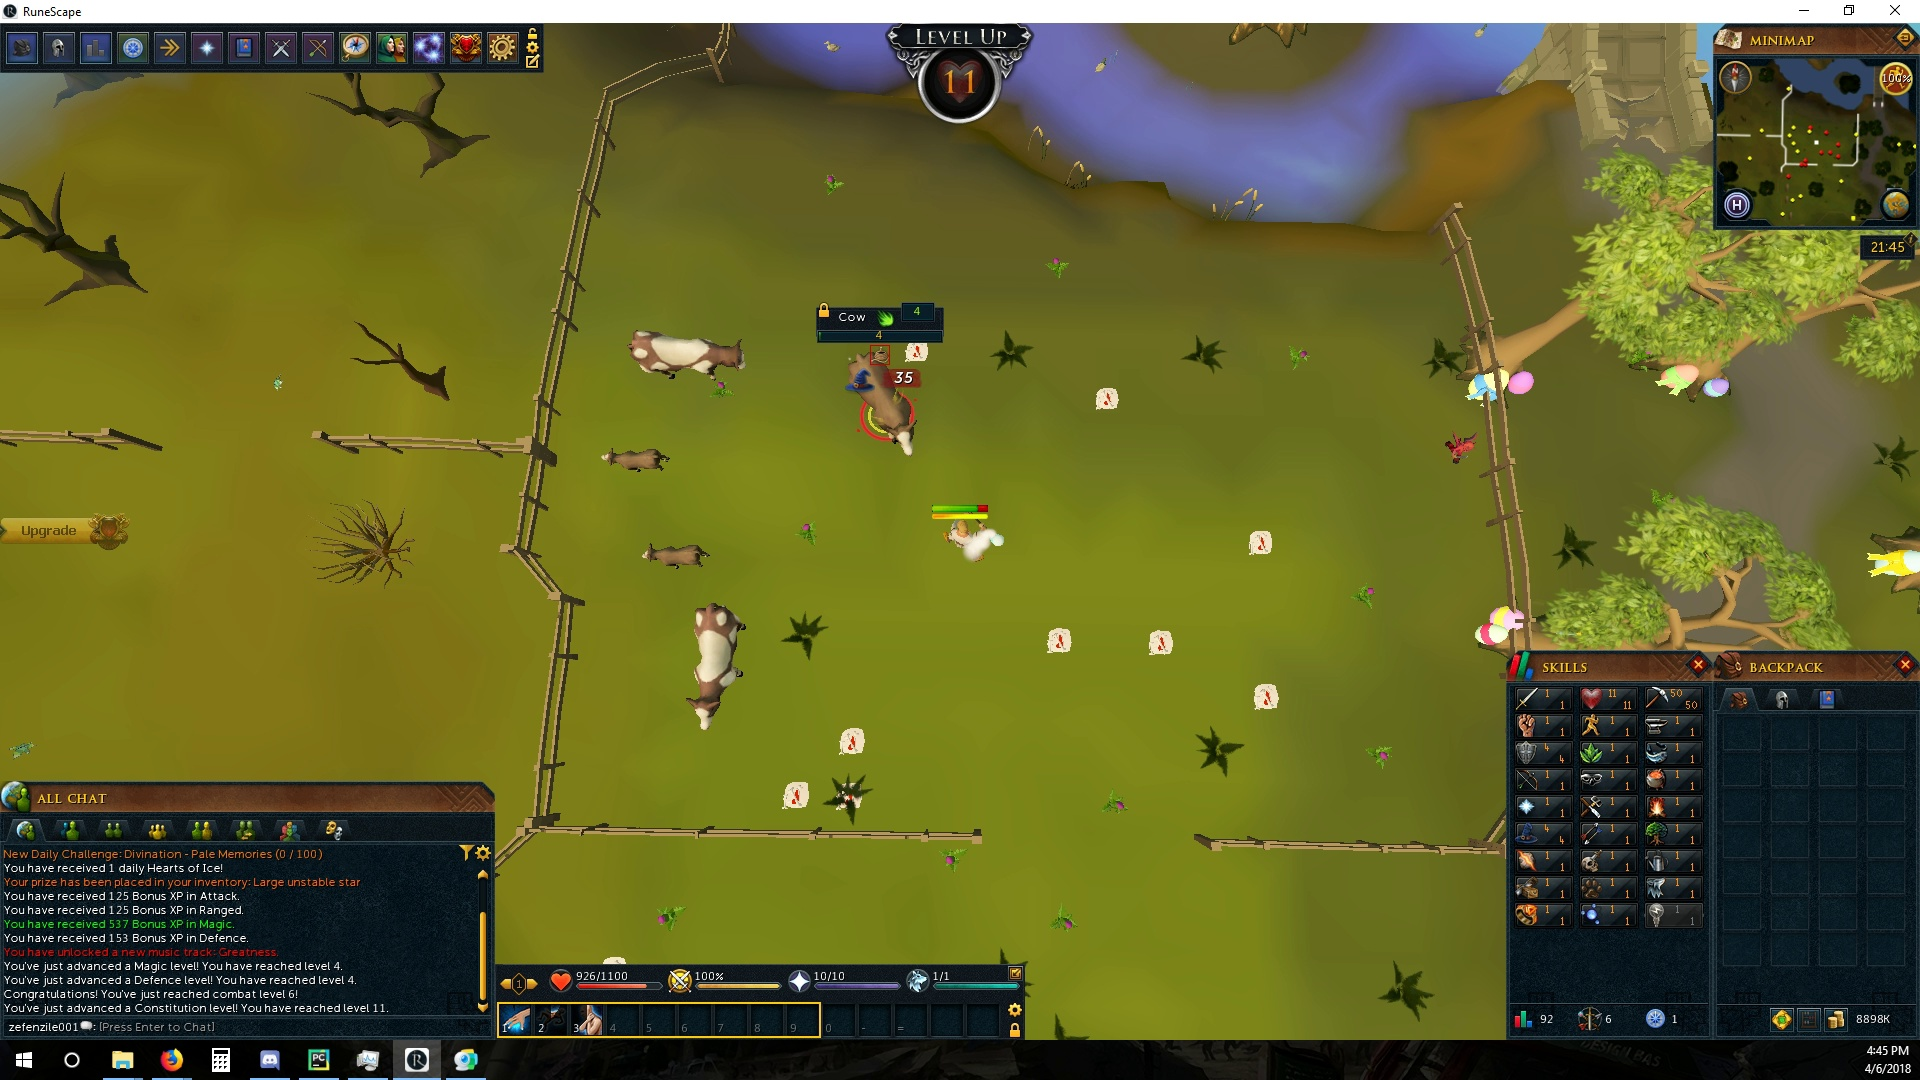calf: (597, 444, 673, 473), (640, 543, 715, 571)
cow: (682, 601, 749, 733), (844, 353, 922, 459), (618, 331, 749, 386)
cow_drop: (1145, 628, 1178, 659), (832, 728, 866, 757), (781, 782, 812, 812), (1047, 624, 1075, 658), (1095, 384, 1124, 415), (1249, 682, 1282, 709), (1247, 529, 1276, 559), (905, 342, 931, 371)
